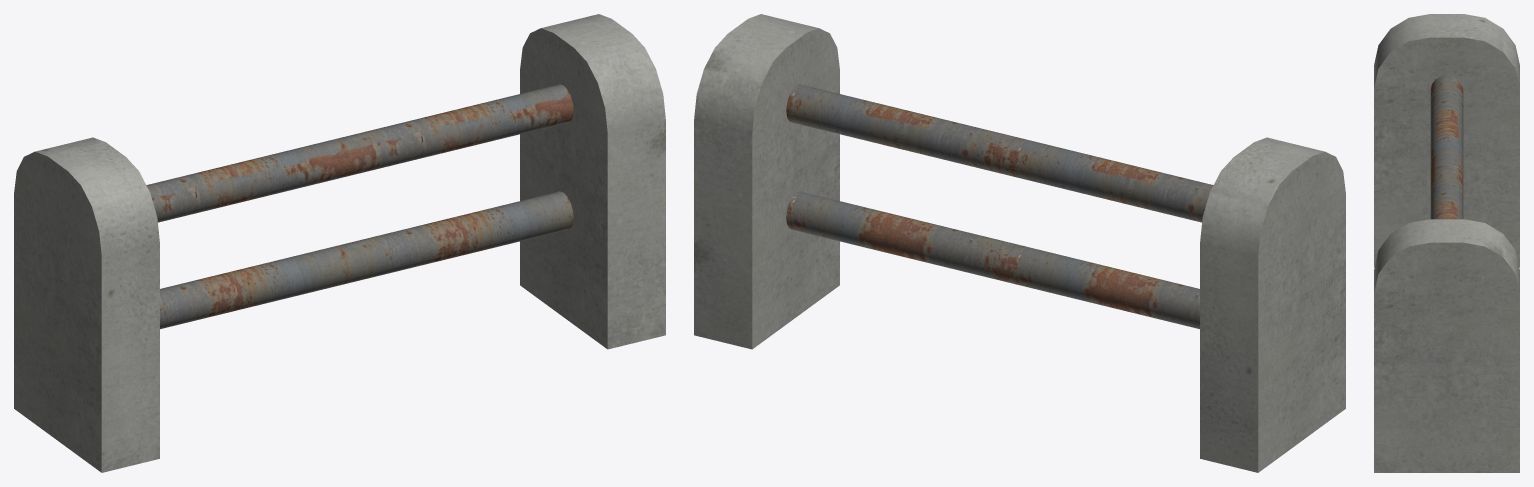
File: Fence3-1.fbx
3 renders of one model, left to right at view 1: azimuth 30°, elevation 25°; view 2: azimuth 150°, elevation 25°; view 3: azimuth 270°, elevation 25°, orthographic. The views are drawn at different scales.
Visible parts, largest first — view 1: Fence3-1; view 2: Fence3-1; view 3: Fence3-1.
Boxes of the visible parts, x1,y1,x2,y2 form: Fence3-1: (14, 14, 665, 472); Fence3-1: (694, 14, 1345, 472); Fence3-1: (1374, 14, 1519, 472).
Bounding box in the file's own units: 499 × 234 × 134.
Materials: 1 (1 with a texture image).
